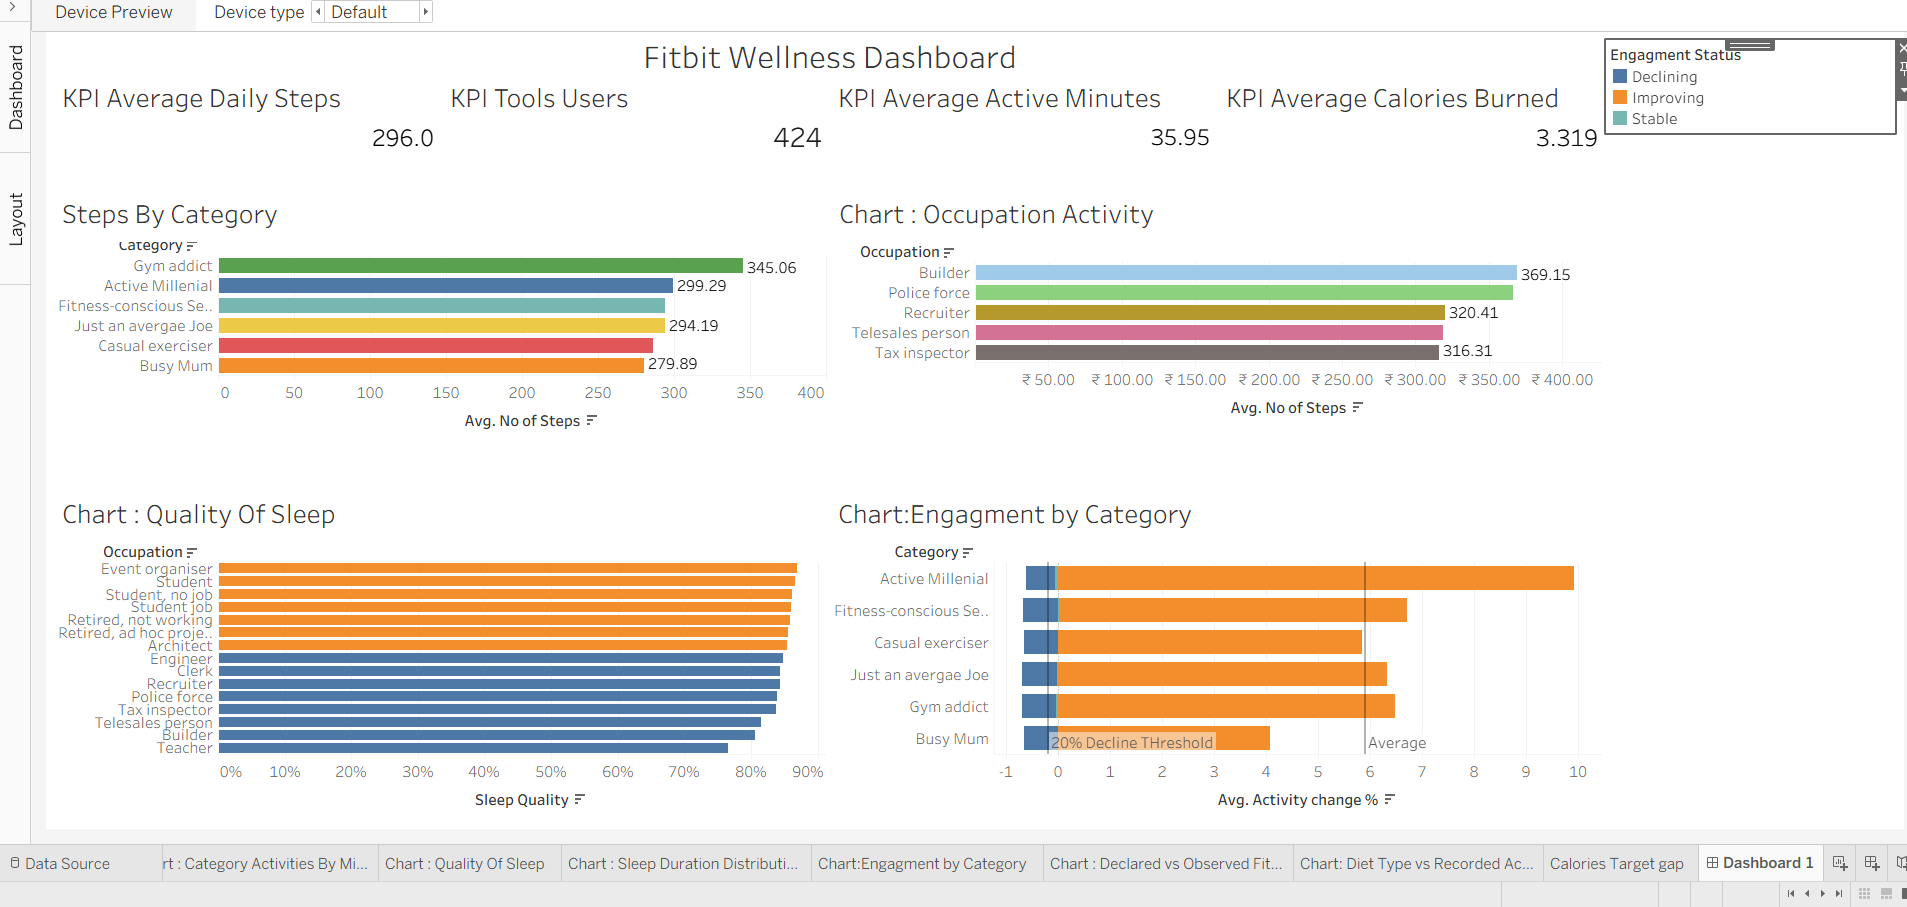

What the dashboard file says about the page in this screenshot:
{"tool":"tableau","page":{"name":"Dashboard 1","canvas":[1000,1000],"units":"permille","ordinal":0},"visuals":[{"type":"title","box":[6.2,7.8,760.2,31.2]},{"type":"legend","title":"Chart:Engagment by Category","param":"[federated.04pismq0wx00b916iq41b1idstui].[none:Calculation_498492209947607045:nk","box":[766.4,7.8,227.3,90.8]},{"type":"worksheet","title":"KPI Average Daily Steps","mark":"Automatic","box":[6.2,39.1,190.6,113.3]},{"type":"worksheet","title":"KPI Tools Users","mark":"Automatic","box":[196.9,39.1,189.8,113.3]},{"type":"worksheet","title":"KPI Average Active Minutes","mark":"Automatic","box":[386.7,39.1,189.8,113.3]},{"type":"worksheet","title":"KPI Average Calories Burned","mark":"Automatic","box":[576.6,39.1,189.8,113.3]},{"type":"worksheet","title":"Steps By Category","mark":"Automatic","rows":["Category"],"cols":["No of Steps"],"box":[6.2,152.3,380.5,248.1]},{"type":"worksheet","title":"Chart : Occupation Activity","mark":"Automatic","rows":["Occupation"],"cols":["No of Steps"],"box":[386.8,152.3,379.7,293]},{"type":"worksheet","title":"Chart : Quality Of Sleep","mark":"Automatic","rows":["Occupation"],"cols":["Calculation_1037798264964063236"],"box":[6.2,445.3,380.1,411.1]},{"type":"worksheet","title":"Chart:Engagment by Category","mark":"Automatic","rows":["Category"],"cols":["Calculation_498492209945759748"],"box":[386.3,445.3,380.1,411.1]}]}

Visuals, with their boxes on the dashboard's canvas, which has no fixed pixel size, in thousandths of its width and height (x1, y1, x2, y2). These are canvas units, not pixel positions in the 1907x907 screenshot, which may show the page scaled, cropped or inside an application window:
title: region(6, 8, 766, 39)
"Chart:Engagment by Category" legend: region(766, 8, 994, 99)
"KPI Average Daily Steps" worksheet: region(6, 39, 197, 152)
"KPI Tools Users" worksheet: region(197, 39, 387, 152)
"KPI Average Active Minutes" worksheet: region(387, 39, 576, 152)
"KPI Average Calories Burned" worksheet: region(577, 39, 766, 152)
"Steps By Category" worksheet: region(6, 152, 387, 400)
"Chart : Occupation Activity" worksheet: region(387, 152, 766, 445)
"Chart : Quality Of Sleep" worksheet: region(6, 445, 386, 856)
"Chart:Engagment by Category" worksheet: region(386, 445, 766, 856)
